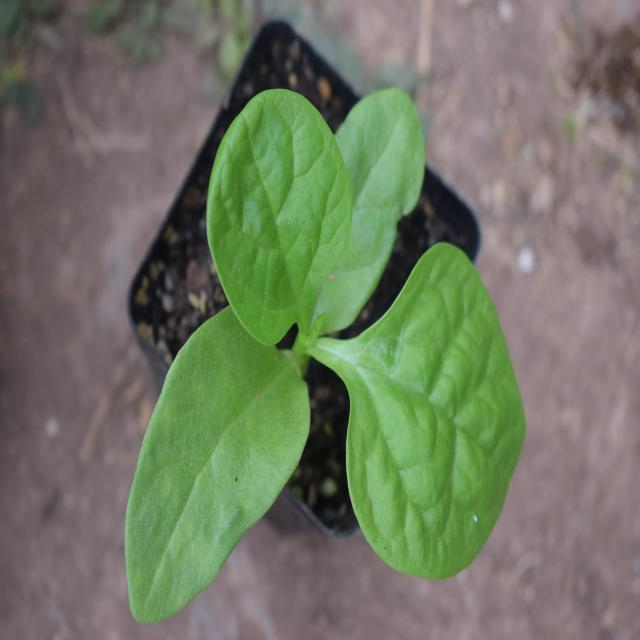Ceylon spinach: (125, 97, 532, 603)
